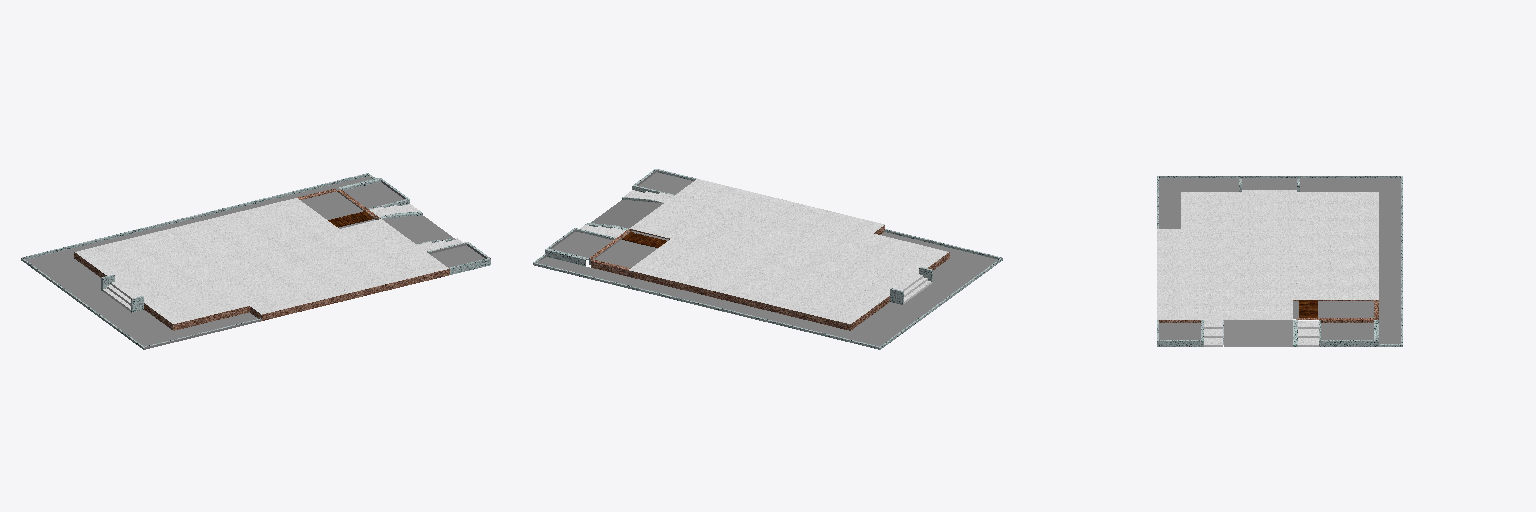
3 renders of one model, left to right at view 1: azimuth 30°, elevation 25°; view 2: azimuth 150°, elevation 25°; view 3: azimuth 270°, elevation 25°, orthographic.
Visible parts, largest first — view 1: PisoBlanco, PastoPiso, Orilla1_Piso, Orilla2_Piso; view 2: PisoBlanco, PastoPiso, Orilla1_Piso, Orilla2_Piso; view 3: PisoBlanco, PastoPiso, Orilla1_Piso, Orilla2_Piso.
Part boxes in pixels (x1,y1,x2,y2): PisoBlanco: (75, 198, 462, 323); PastoPiso: (26, 177, 484, 346); Orilla1_Piso: (21, 173, 490, 349); Orilla2_Piso: (74, 189, 449, 330); PisoBlanco: (580, 179, 948, 330); PastoPiso: (539, 172, 997, 346); Orilla1_Piso: (533, 169, 1002, 349); Orilla2_Piso: (589, 225, 949, 329); PisoBlanco: (1157, 190, 1378, 346); PastoPiso: (1159, 178, 1400, 346); Orilla1_Piso: (1157, 176, 1402, 346); Orilla2_Piso: (1159, 300, 1378, 322).
Size of the model in its own units: 14.23 by 0.5126 by 8.73.
6 materials, 4 textured.